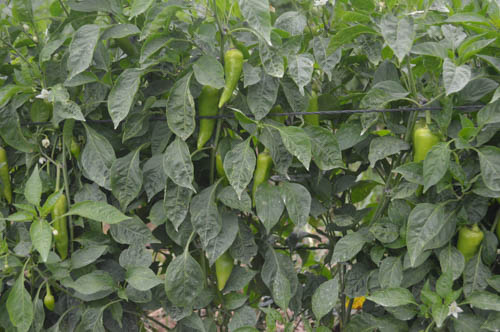ChiliPepper: (192, 81, 220, 154), (219, 49, 241, 113), (415, 130, 435, 188), (456, 230, 481, 272), (251, 150, 267, 209), (49, 197, 65, 252)
